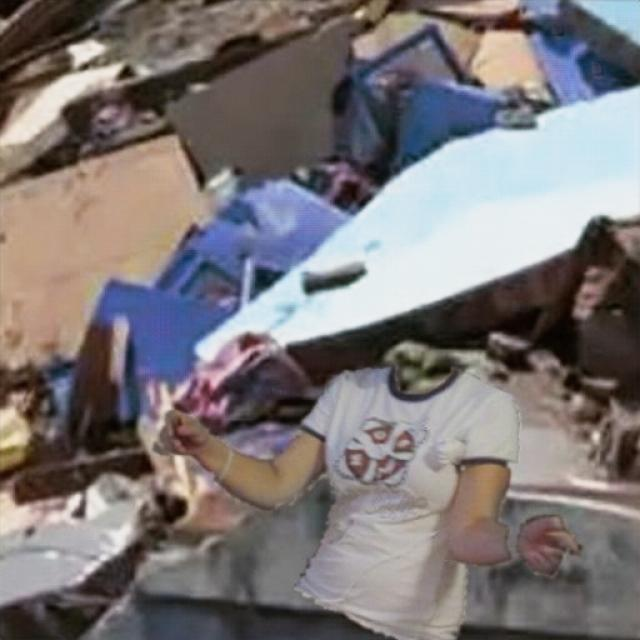Person in Rubble: (152, 365, 580, 639)
